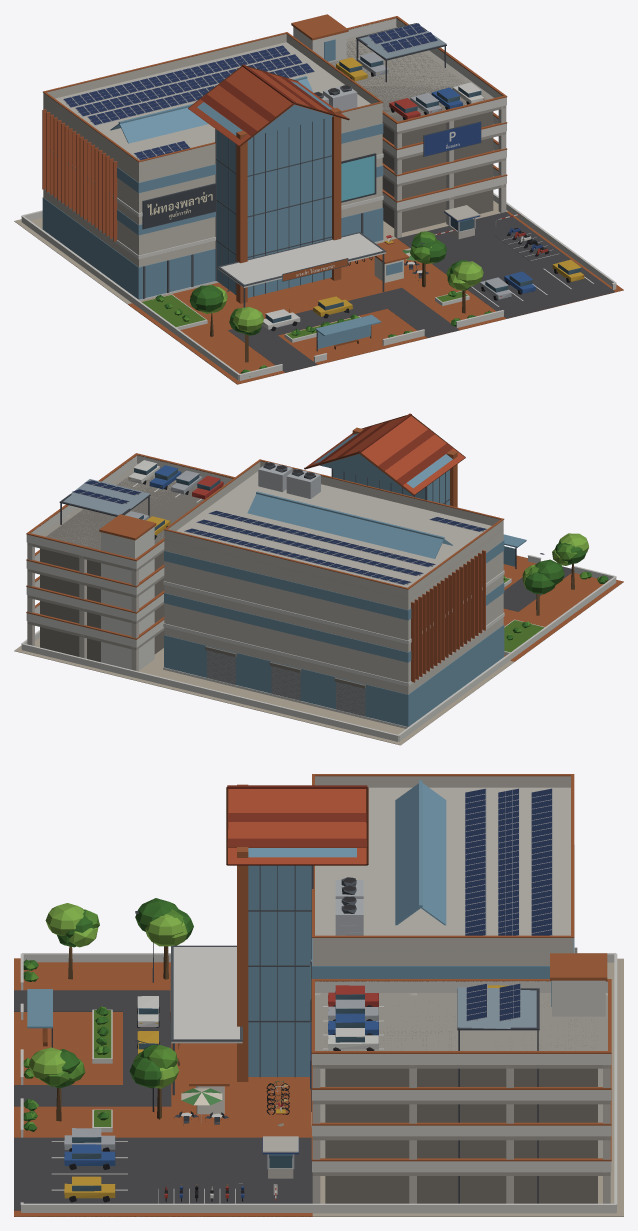
File: store.glb
3 views of the same model, one above another, from view 1: azimuth 30°, elevation 25°; view 2: azimuth 150°, elevation 25°; view 3: azimuth 270°, elevation 25° (orthographic). The views are drawn at different scales.
Visible parts, largest first — view 1: body, windows; view 2: body, windows; view 3: body, windows.
Part boxes in pixels (bbox=[...]): body: bbox=[14, 14, 623, 384]; windows: bbox=[147, 56, 583, 323]; body: bbox=[14, 413, 623, 745]; windows: bbox=[129, 464, 220, 530]; body: bbox=[14, 774, 623, 1216]; windows: bbox=[72, 965, 364, 1191].
Size of the model in its own units: 47.9 by 22.88 by 47.9.
